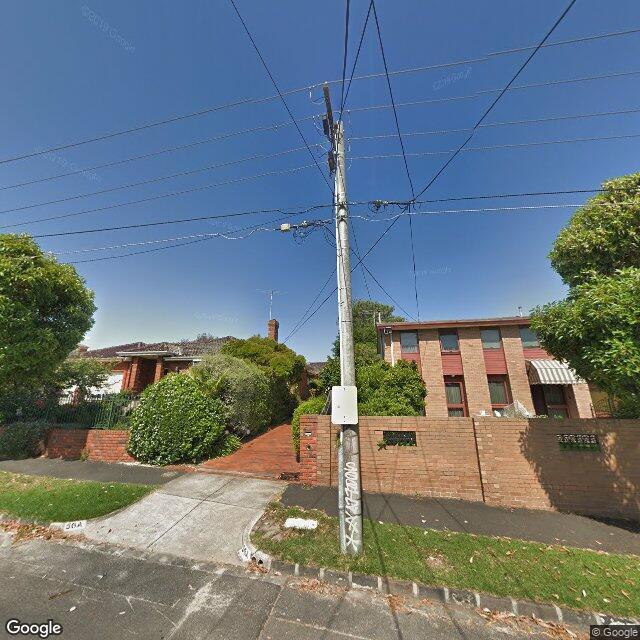crossarm: (309, 82, 336, 173)
timber-pole: (334, 119, 361, 554)
